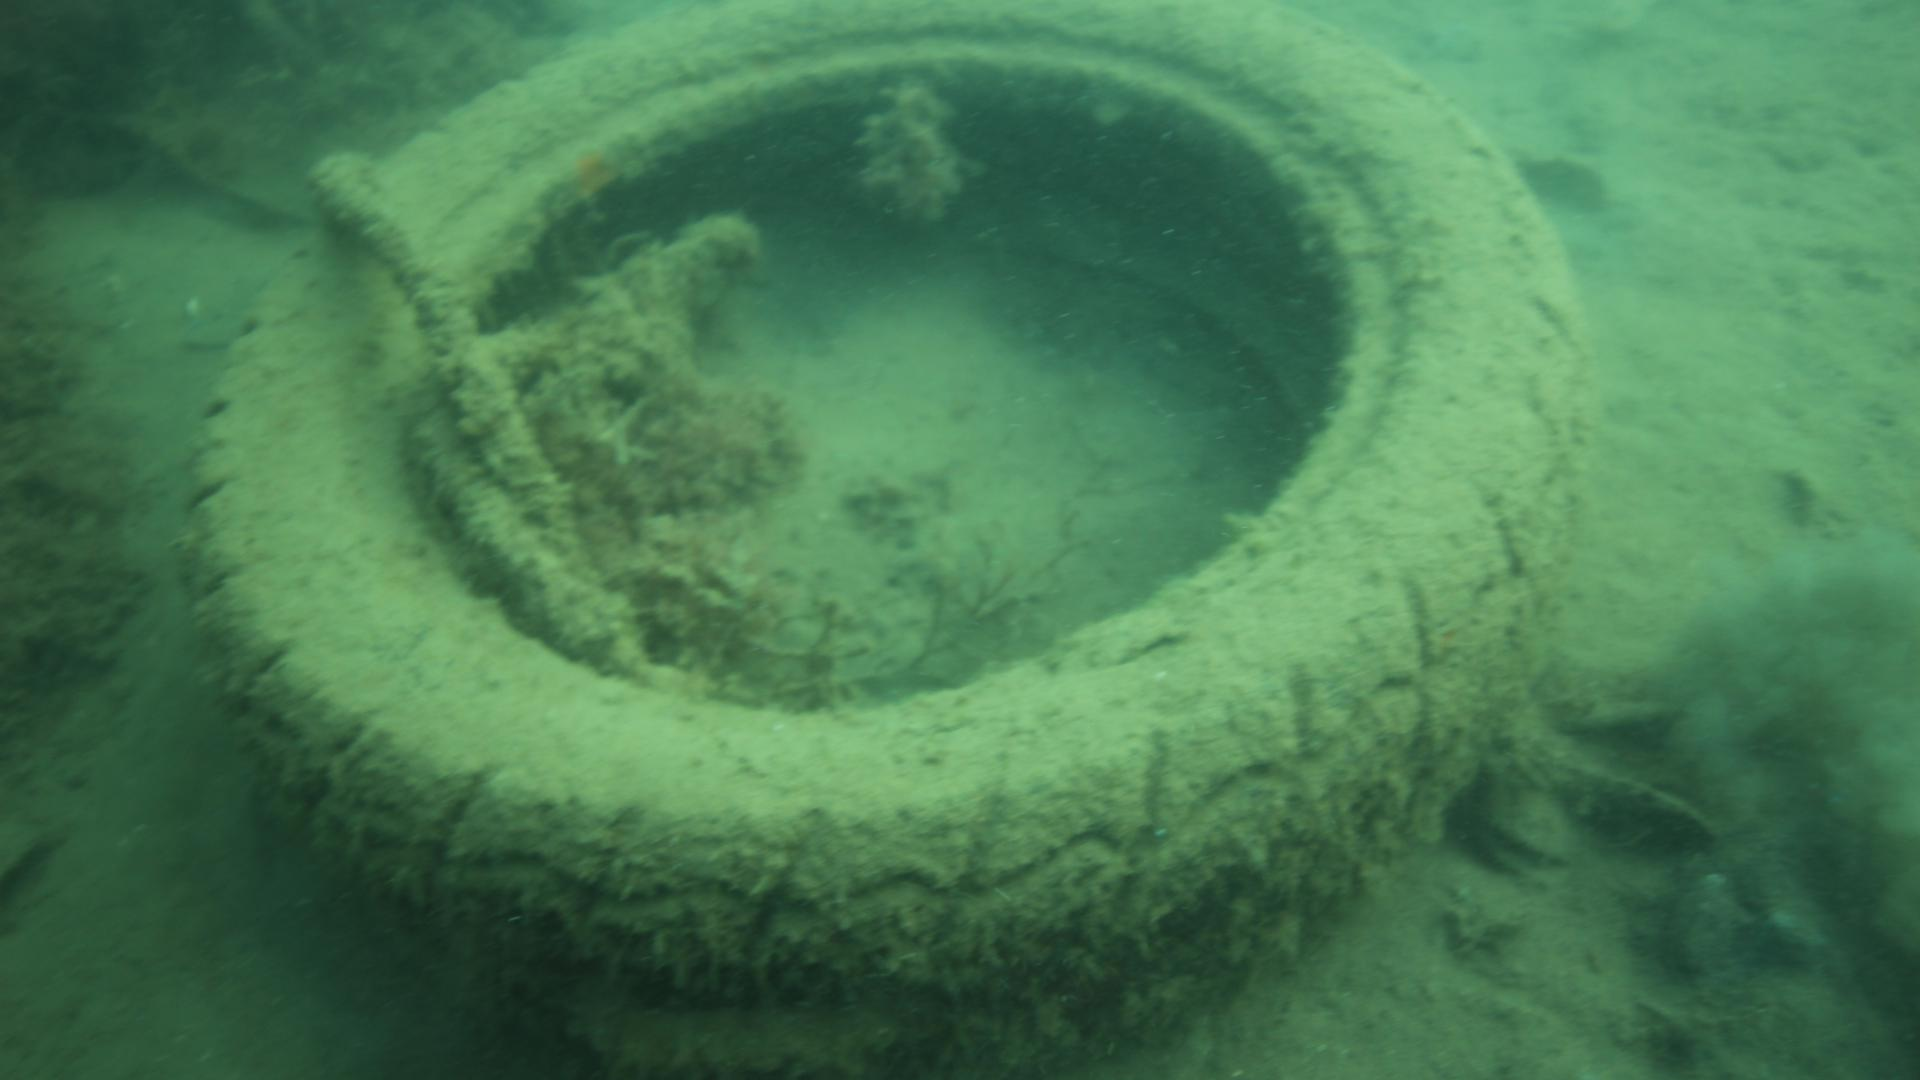tire: (179, 0, 1584, 1069)
